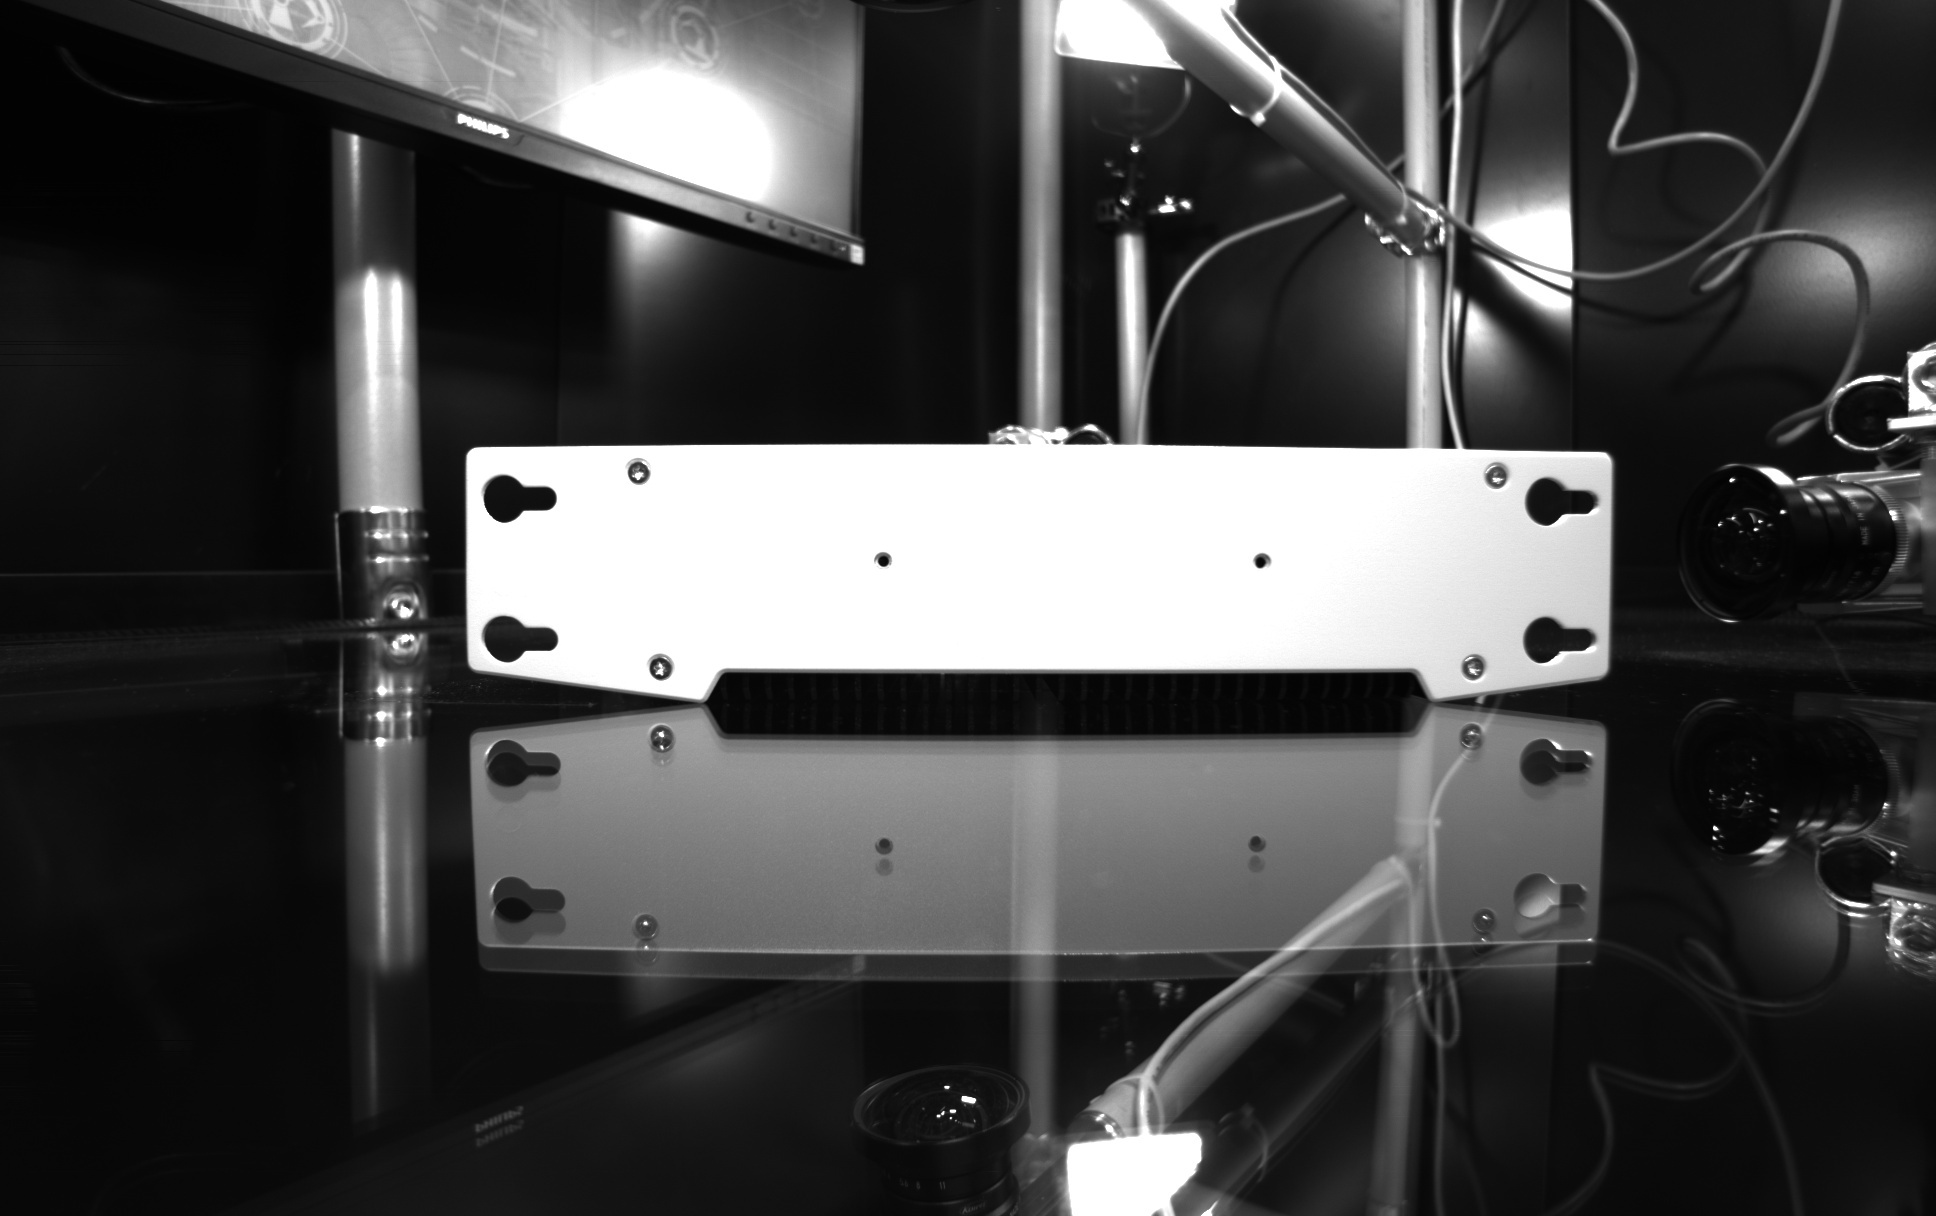CamBack: (436, 409, 1645, 699)
Schraube: (619, 452, 658, 493), (640, 650, 679, 691), (1454, 647, 1493, 686), (1478, 457, 1517, 496)
Schraube_gespiegelt: (623, 908, 670, 969), (1464, 904, 1505, 962), (1451, 717, 1493, 773), (640, 719, 679, 776)
